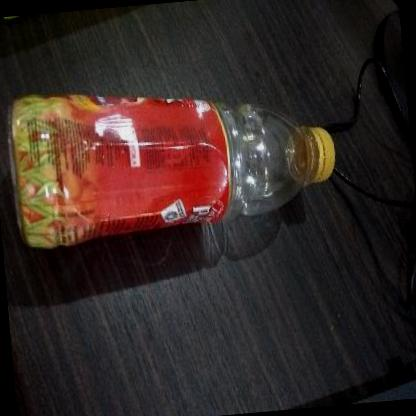plastic_bottles: (0, 63, 356, 258)
